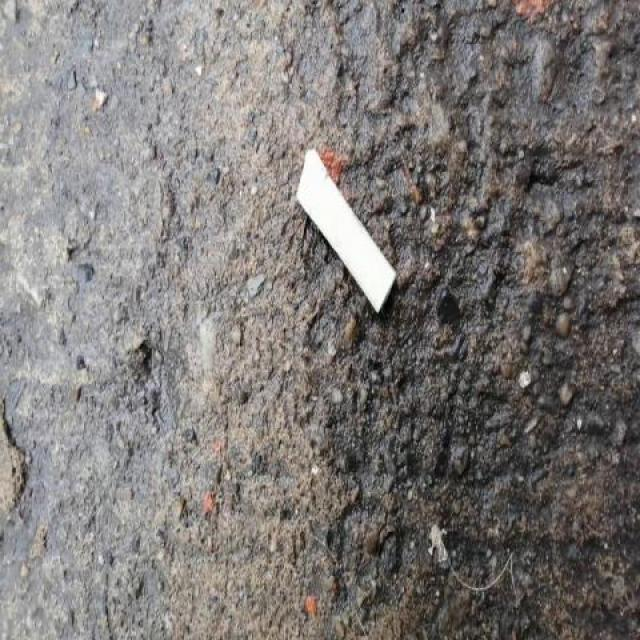non-organic waste: (288, 144, 403, 317)
